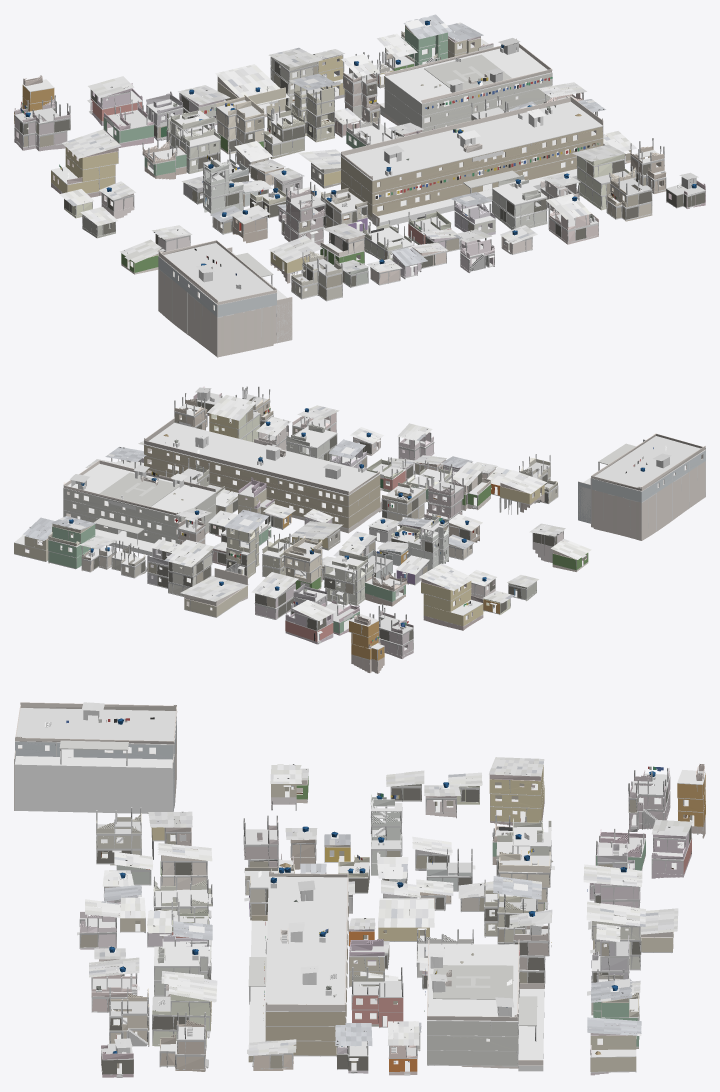
3 renders of one model, top to bottom at view 1: azimuth 30°, elevation 25°; view 2: azimuth 150°, elevation 25°; view 3: azimuth 270°, elevation 25°, orthographic. The views are drawn at different scales.
Visible parts, largest first — view 1: T_26_23; view 2: T_26_23; view 3: T_26_23.
Boxes of the visible parts, <box> form: T_26_23: <box>14,14,705,357</box>; T_26_23: <box>14,386,705,673</box>; T_26_23: <box>14,702,705,1077</box>.
Bounding box in the file's own units: 128 × 16.5 × 121.
